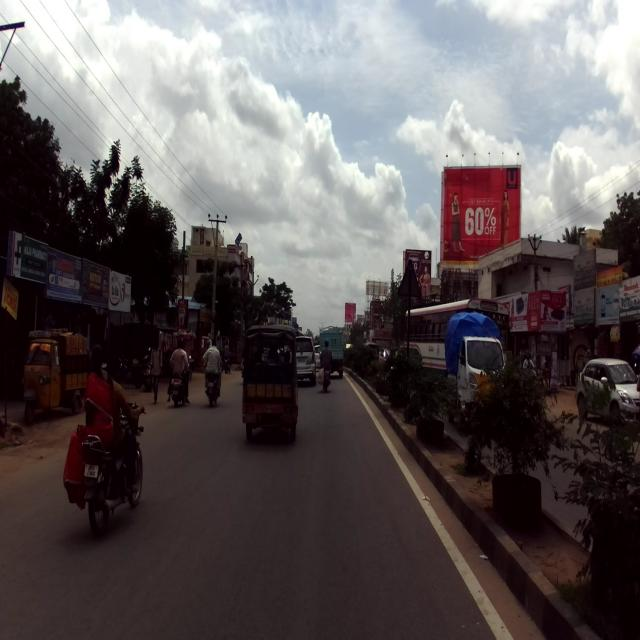autorickshaw: (240, 324, 298, 439)
bus: (403, 298, 509, 392)
car: (574, 356, 637, 427)
motorcycle: (83, 398, 145, 539)
